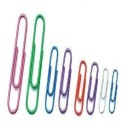Metal: (2, 13, 26, 115), (27, 13, 41, 117), (58, 47, 74, 116), (44, 40, 58, 118), (72, 57, 87, 118), (86, 59, 99, 117), (110, 69, 122, 115), (99, 66, 108, 116)
